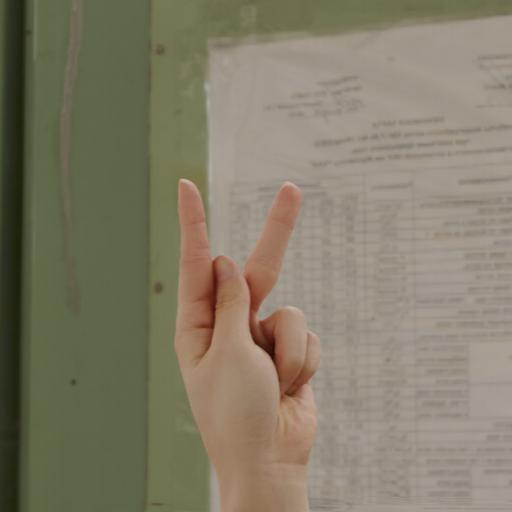K: (169, 173, 323, 474)
